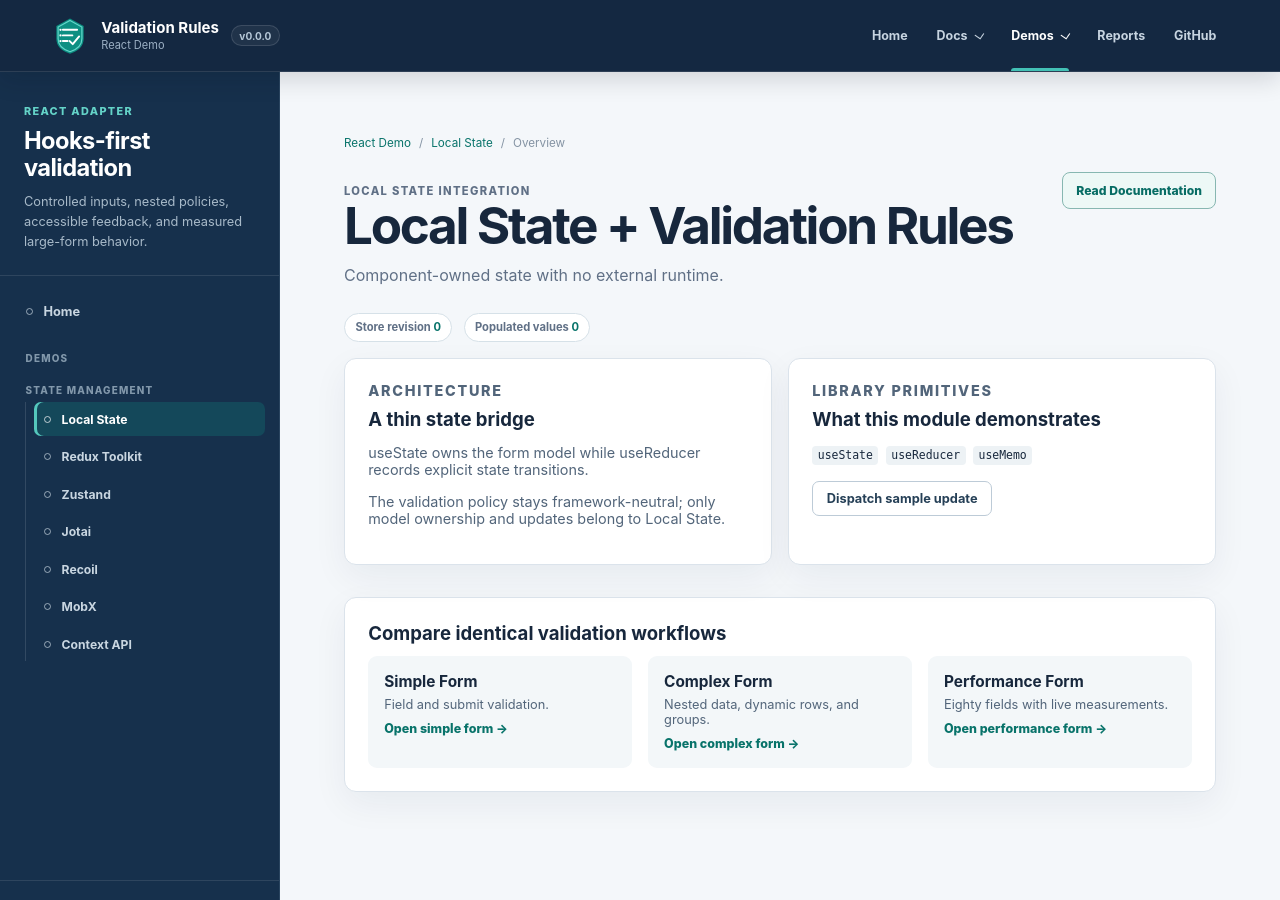
Local State state integration › renders its home, active navigation, architecture, derived state, and client-side links
This screenshot has width=1280, height=900.
Expected: the text "useState owns the form model while useReducer records explicit state transitions." is shown, [368,444,700,478]
Click the button "Dispatch sample update" at {"x": 902, "y": 499}, box [812,481,992,516]
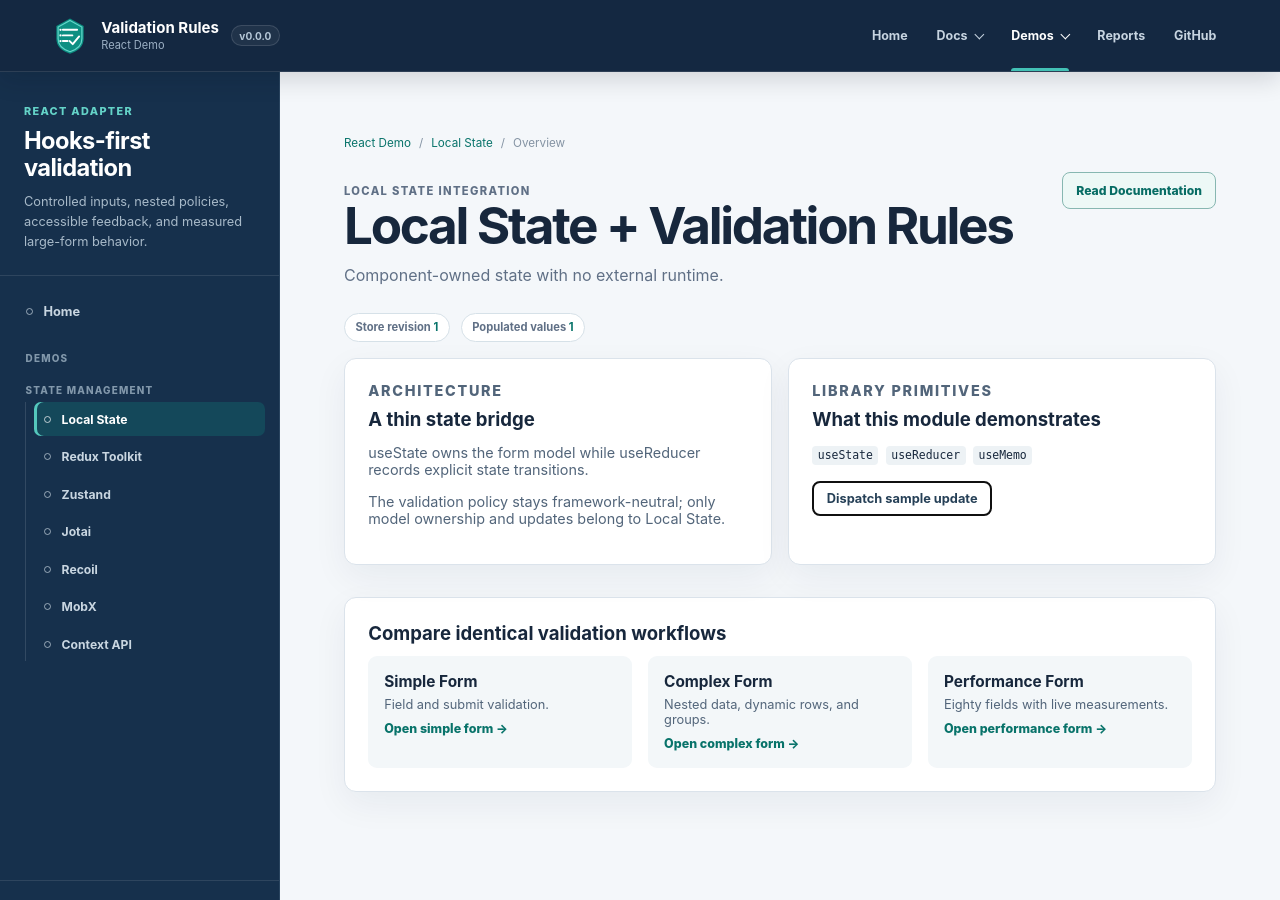
Expected: the text "1" is shown 2 times, [433,320,438,334]; [569,320,574,334]
Click the link "Open simple form ->" at {"x": 446, "y": 728}, box [384,721,508,736]
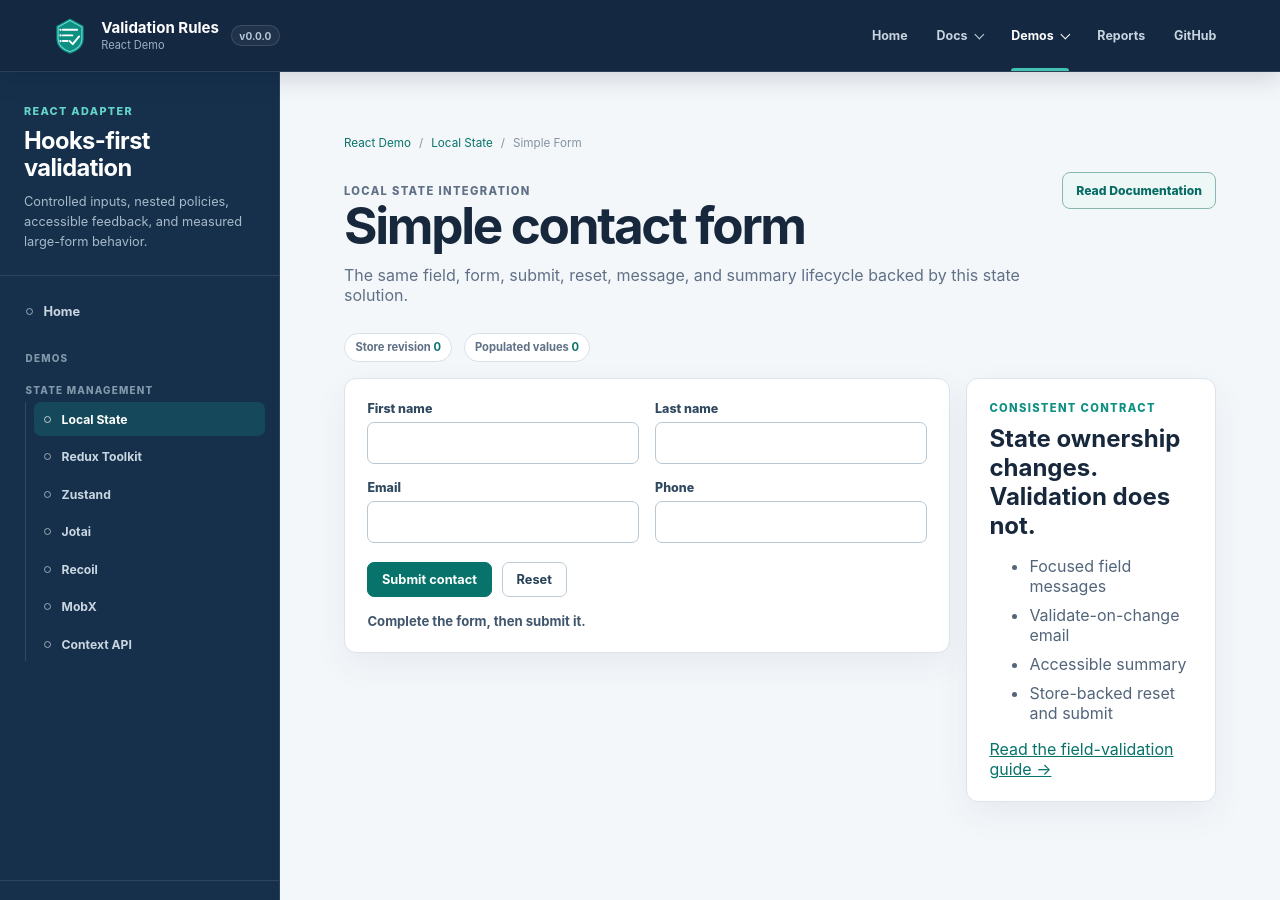
Expected: the heading "Simple contact form" is shown, [344,194,805,256]
